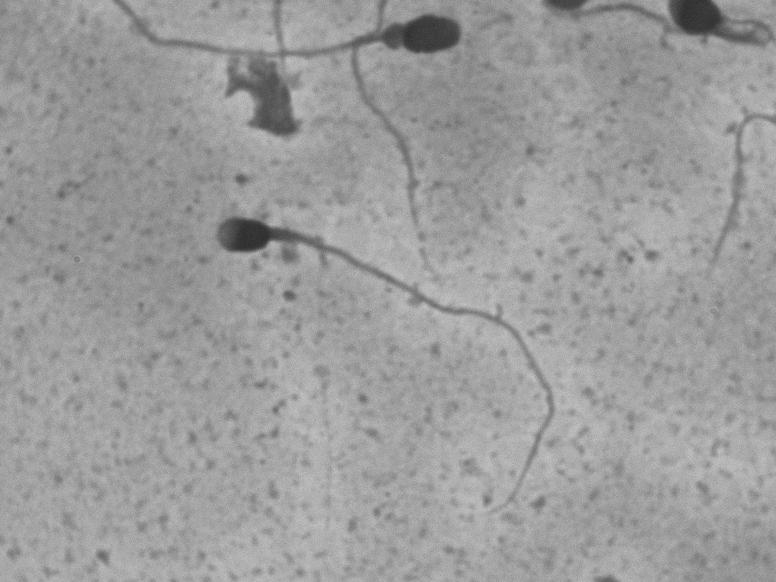Abnormal: (107, 5, 496, 117)
Normal: (168, 199, 599, 521)
